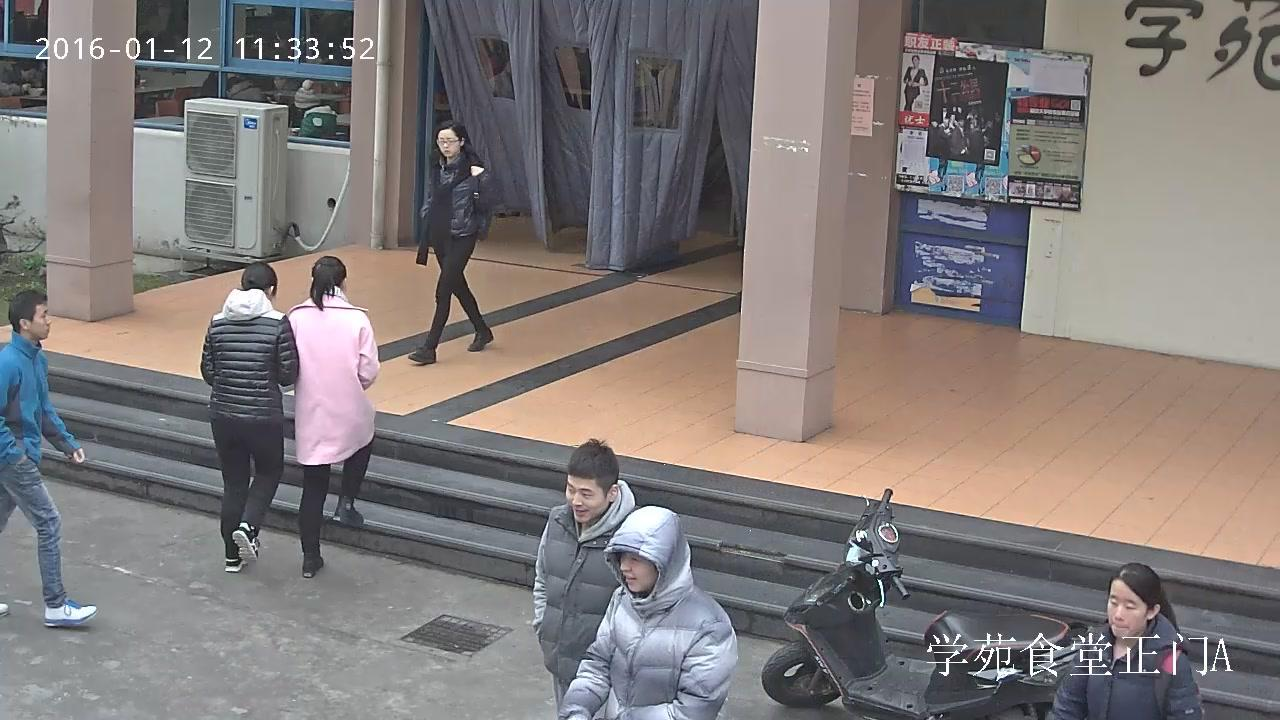person: (557, 504, 737, 720), (0, 287, 101, 628), (200, 260, 298, 572), (287, 256, 379, 578), (532, 439, 639, 700), (1046, 562, 1203, 720), (407, 119, 493, 363), (293, 79, 337, 138), (0, 60, 38, 97), (903, 54, 927, 111)
